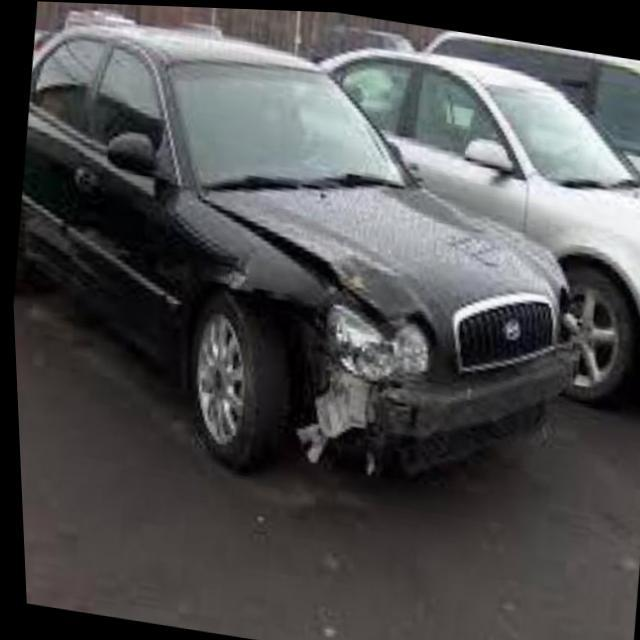dislocated part: (195, 197, 379, 319)
lamp broken: (327, 303, 429, 378)
no part: (221, 245, 437, 489)
